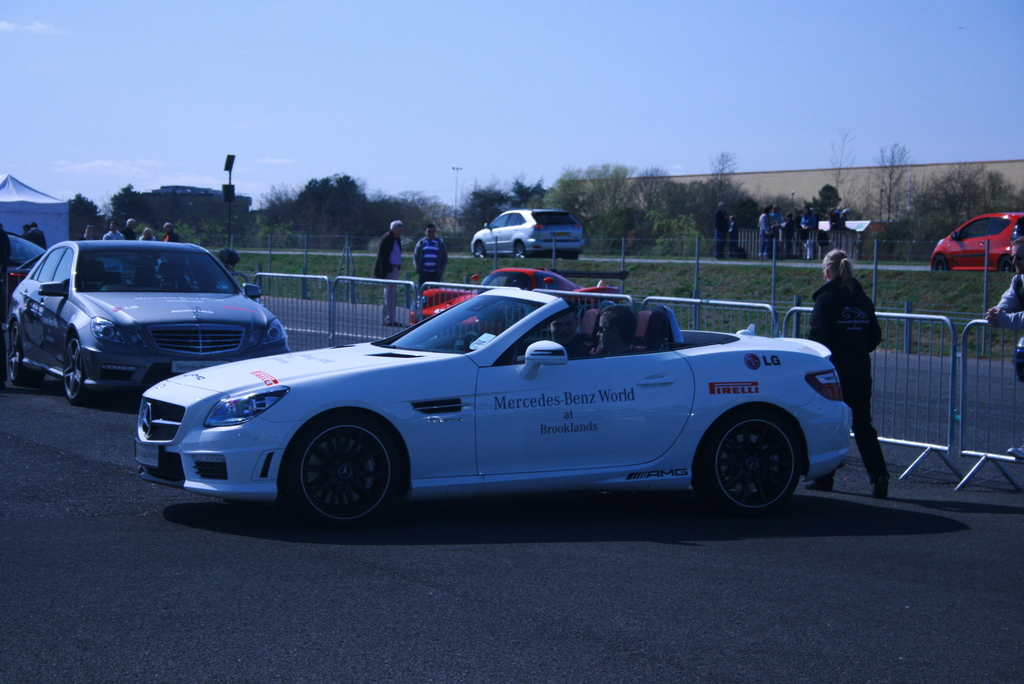Car: (131, 285, 851, 537), (2, 231, 282, 407), (402, 266, 633, 338), (928, 211, 1022, 277), (471, 204, 588, 257), (0, 233, 51, 288)
